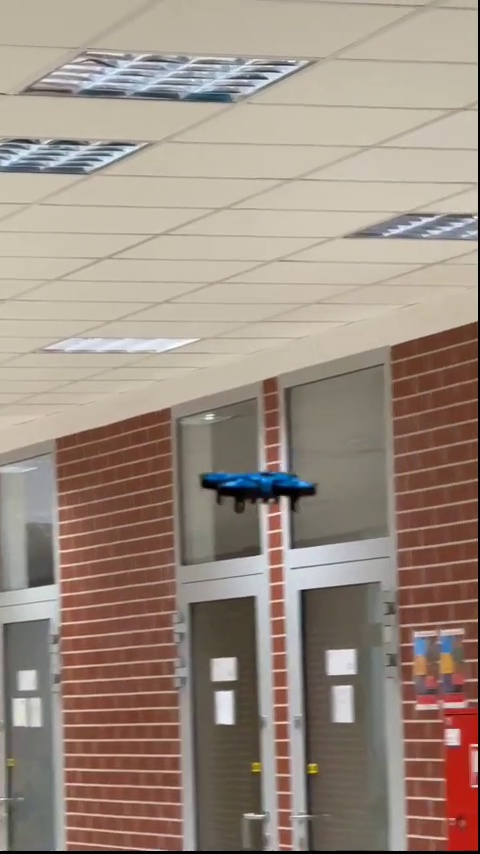drone: (204, 473, 318, 515)
